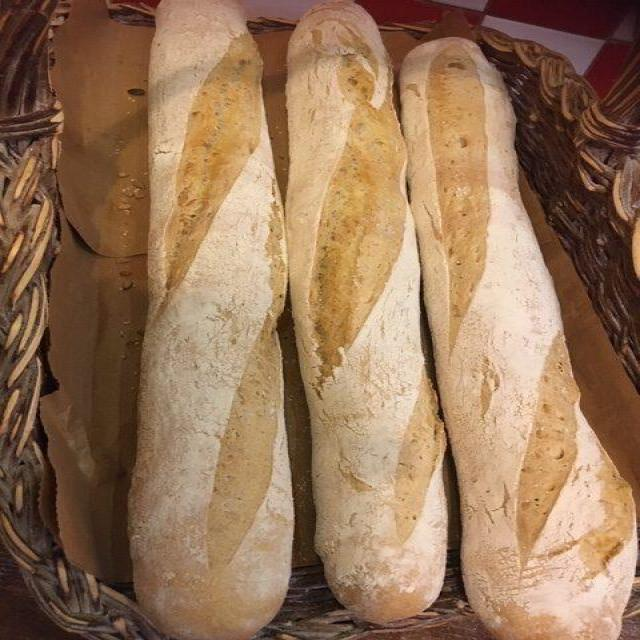Baguette: (399, 35, 635, 639), (128, 0, 292, 639), (287, 2, 447, 620)
